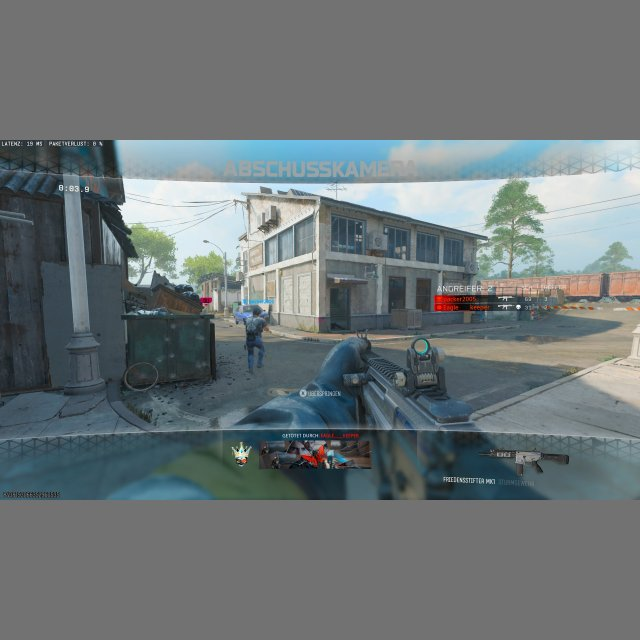head: (252, 307, 263, 317)
player: (242, 307, 270, 374)
